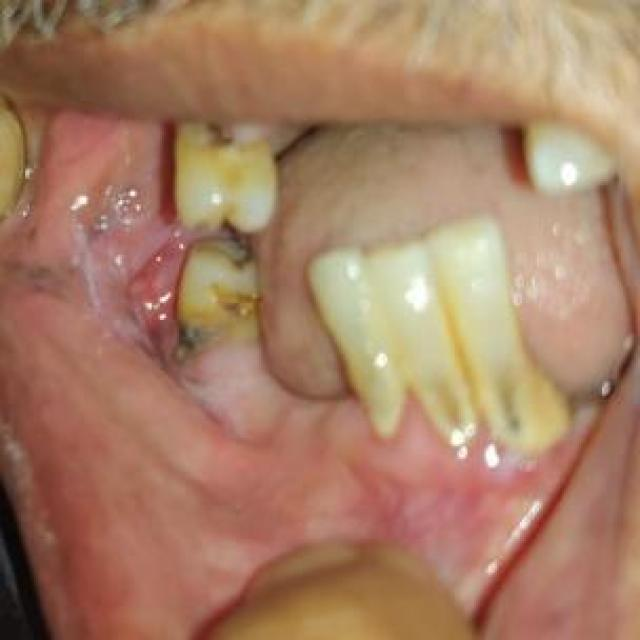leukoplakia-detection: (66, 128, 190, 359)
processing_area: (8, 113, 636, 638), (304, 209, 574, 458)
